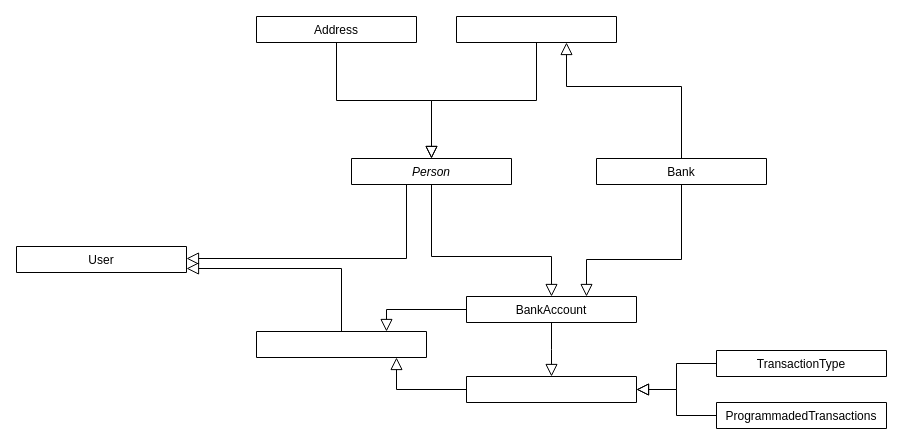
Some shapes in this 903 by 445 pixel diagram are drawn without their labels. The box of each missing label's shape, as (x1, y1, x2, y2) in pixels:
Account: (256, 330, 426, 358)
Occupation: (456, 16, 616, 42)
TransactionsHistory: (466, 376, 636, 402)
